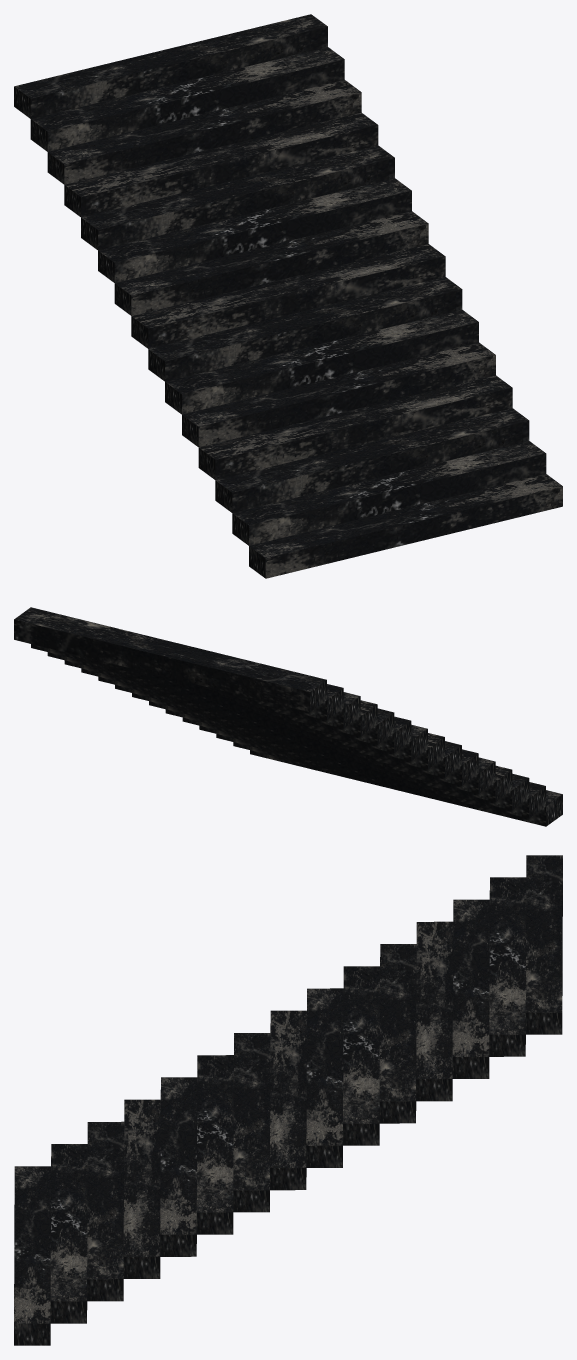
Rendered from Staircaise.fbx.
3 views of the same model, one above another, from view 1: azimuth 30°, elevation 25°; view 2: azimuth 150°, elevation 25°; view 3: azimuth 270°, elevation 25° (orthographic). The views are drawn at different scales.
Visible parts, largest first — view 1: polySurface44; view 2: polySurface44; view 3: polySurface44.
Boxes of the visible parts, bbox=[...] form: polySurface44: bbox=[14, 14, 562, 578]; polySurface44: bbox=[14, 607, 562, 826]; polySurface44: bbox=[14, 855, 562, 1345].
Bounding box in the file's own units: 3.36 × 3.31 × 4.94.
Materials: 1 (1 with a texture image).
